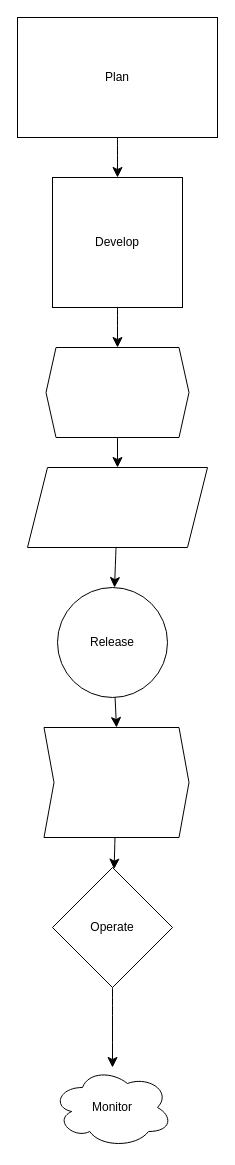
This 235x1165 diagram has some shape labels left out. Here are the shapes that lost their labels. From the top down, the box of each, then its label:
(45, 346, 189, 438): Text
(26, 466, 208, 548): Test
(43, 726, 189, 838): Deploy
